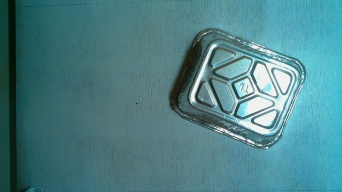f: (171, 22, 309, 149)
